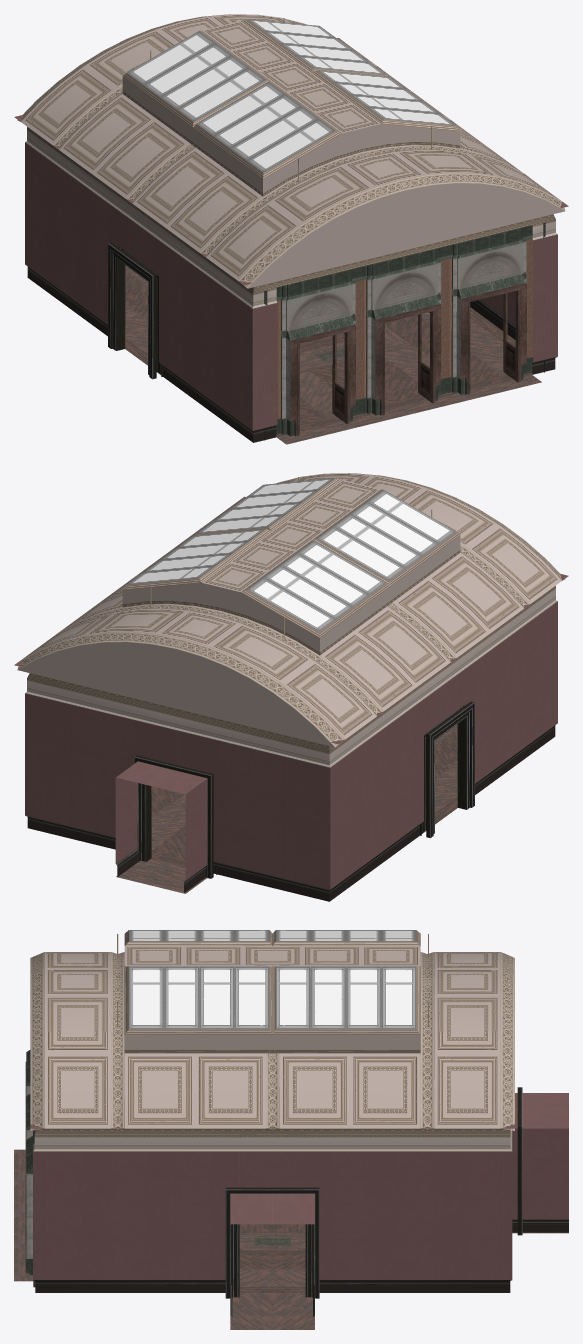
File: Main_Hall.dae
3 views of the same model, one above another, from view 1: azimuth 30°, elevation 25°; view 2: azimuth 150°, elevation 25°; view 3: azimuth 270°, elevation 25° (orthographic). The views are drawn at different scales.
Parts seen in each view (by area): view 1: Main_Hall (×13); view 2: Main_Hall (×8); view 3: Main_Hall (×10).
Part boxes in pixels (box(x1,y1,x2,y2)): Main_Hall (×13): box(14, 14, 568, 444); Main_Hall (×8): box(14, 473, 568, 901); Main_Hall (×10): box(14, 930, 568, 1329).
Bounding box in the file's own units: 2319 × 1431 × 2750.
18 materials, 18 textured.
